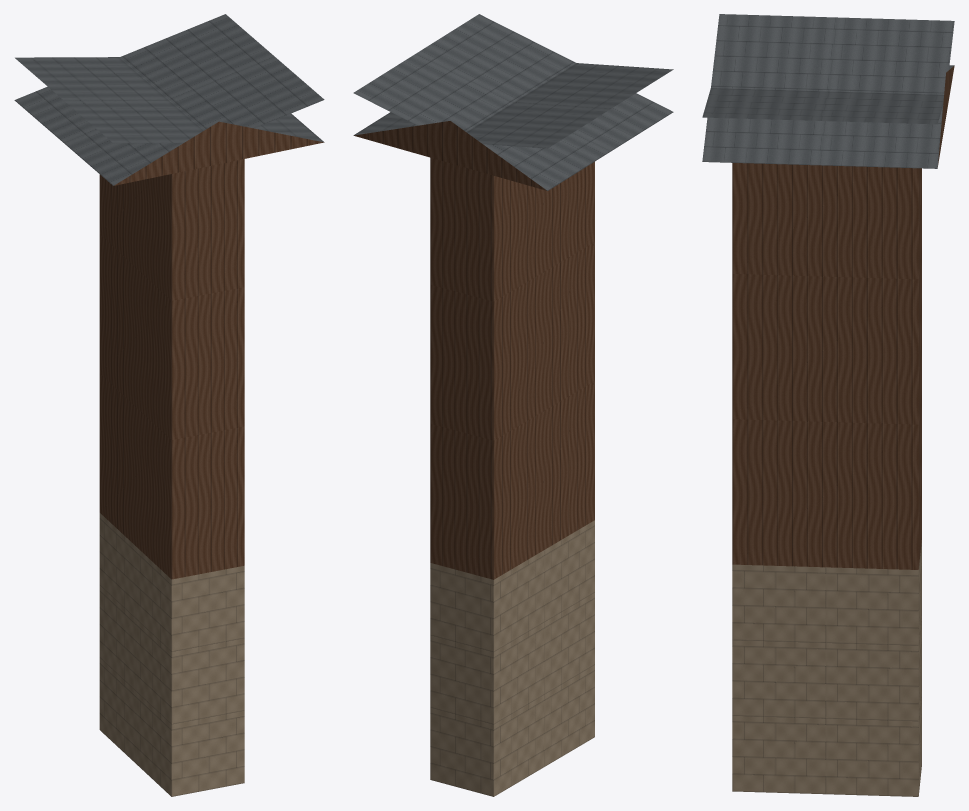
Rendered from bld_c-2_0_540.gltf.
3 views of the same model, side by side, from view 1: azimuth 30°, elevation 25°; view 2: azimuth 150°, elevation 25°; view 3: azimuth 270°, elevation 25° (orthographic). The views are drawn at different scales.
Parts seen in each view (by area): view 1: bld_c-2_0_540; view 2: bld_c-2_0_540; view 3: bld_c-2_0_540.
Boxes of the visible parts, <box> form: bld_c-2_0_540: <box>14,14,324,796</box>; bld_c-2_0_540: <box>353,14,673,796</box>; bld_c-2_0_540: <box>702,14,954,796</box>.
Size of the model in its own units: 5.32 by 15.9 by 5.14.
4 materials, 4 textured.
